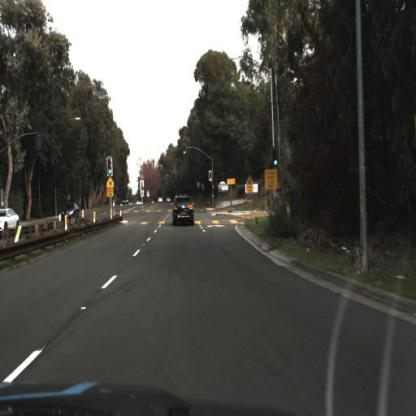car: (169, 196, 197, 229), (56, 196, 82, 224), (60, 197, 83, 223), (1, 208, 21, 234), (121, 196, 131, 208)
trafficLight-Green: (105, 152, 115, 180), (272, 148, 282, 172), (271, 151, 280, 177), (106, 165, 115, 179), (182, 142, 189, 160), (208, 174, 215, 191), (209, 168, 215, 183), (181, 147, 189, 157)
